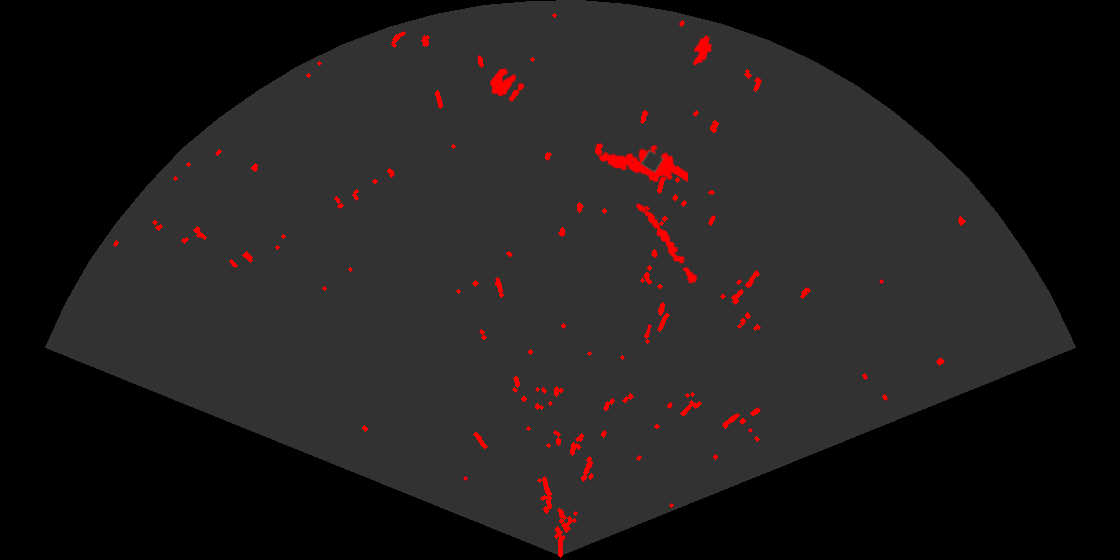AUV: (691, 34, 714, 67)
ball: (489, 67, 526, 103)
chain: (634, 202, 699, 285)
frogman: (597, 143, 688, 184)
